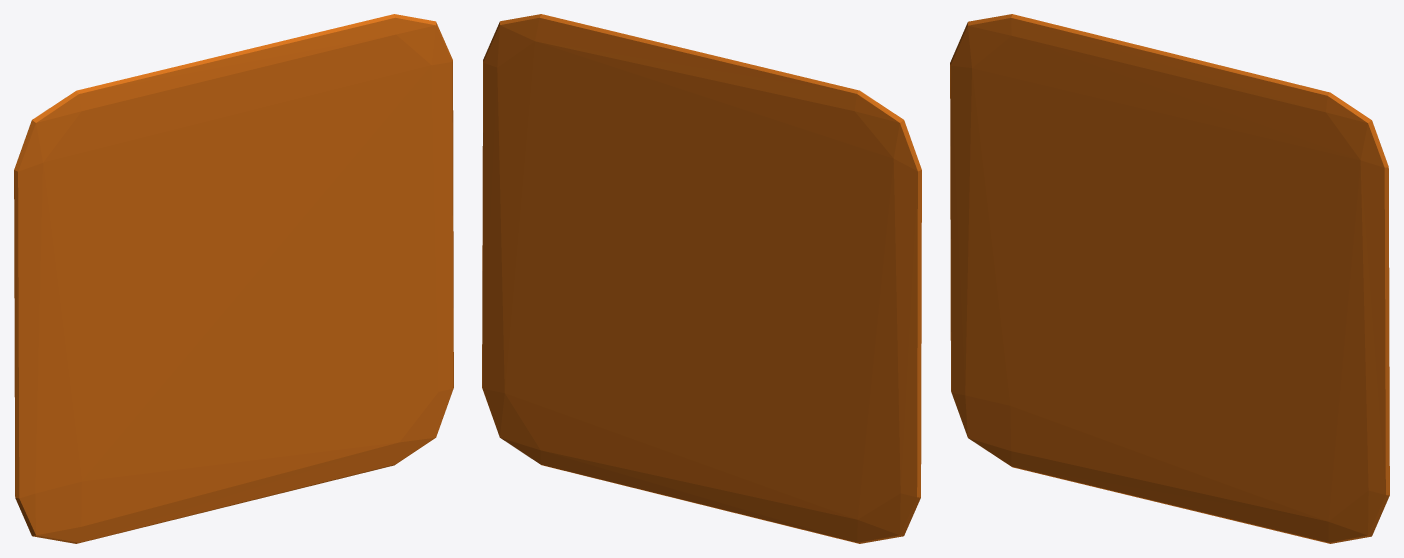
File: Napkin.fbx
The picture shows the model from 3 angles, left to right: view 1: azimuth 30°, elevation 25°; view 2: azimuth 150°, elevation 25°; view 3: azimuth 330°, elevation 25°; orthographic projection.
Parts seen in each view (by area): view 1: NapkinLowPoly; view 2: NapkinLowPoly; view 3: NapkinLowPoly.
Part boxes in pixels (box(x1,y1,x2,y2)): NapkinLowPoly: box(14, 14, 453, 543); NapkinLowPoly: box(482, 14, 921, 543); NapkinLowPoly: box(950, 14, 1389, 543).
Bounding box in the file's own units: 15.24 × 15.01 × 0.4376.
